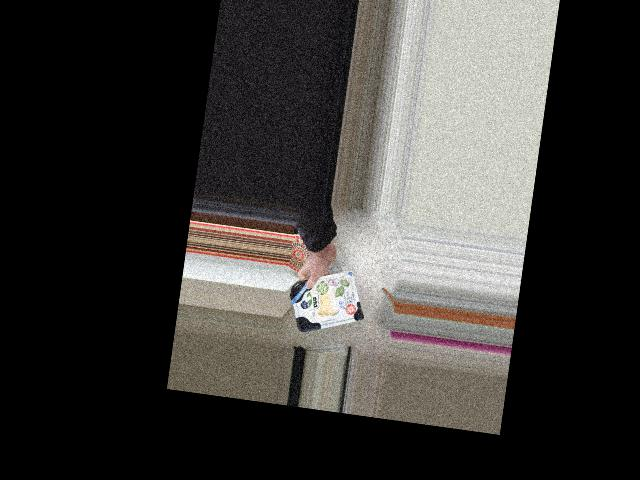cheese: (295, 270, 361, 326)
